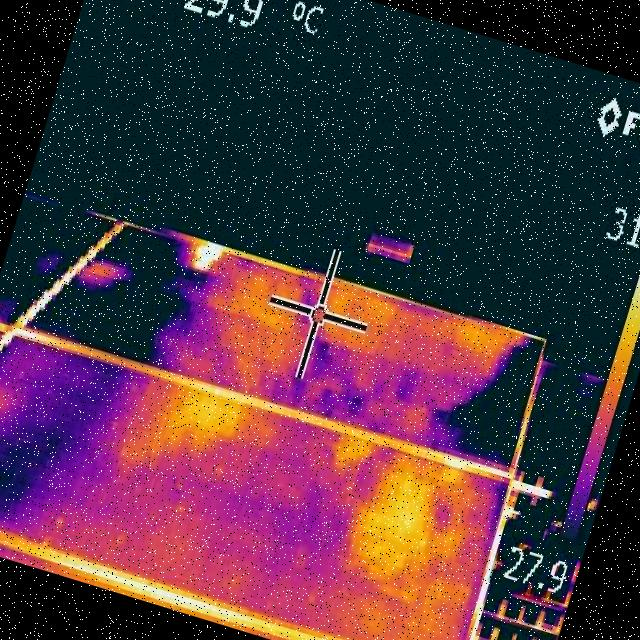Hotspot: (188, 238, 224, 274)
